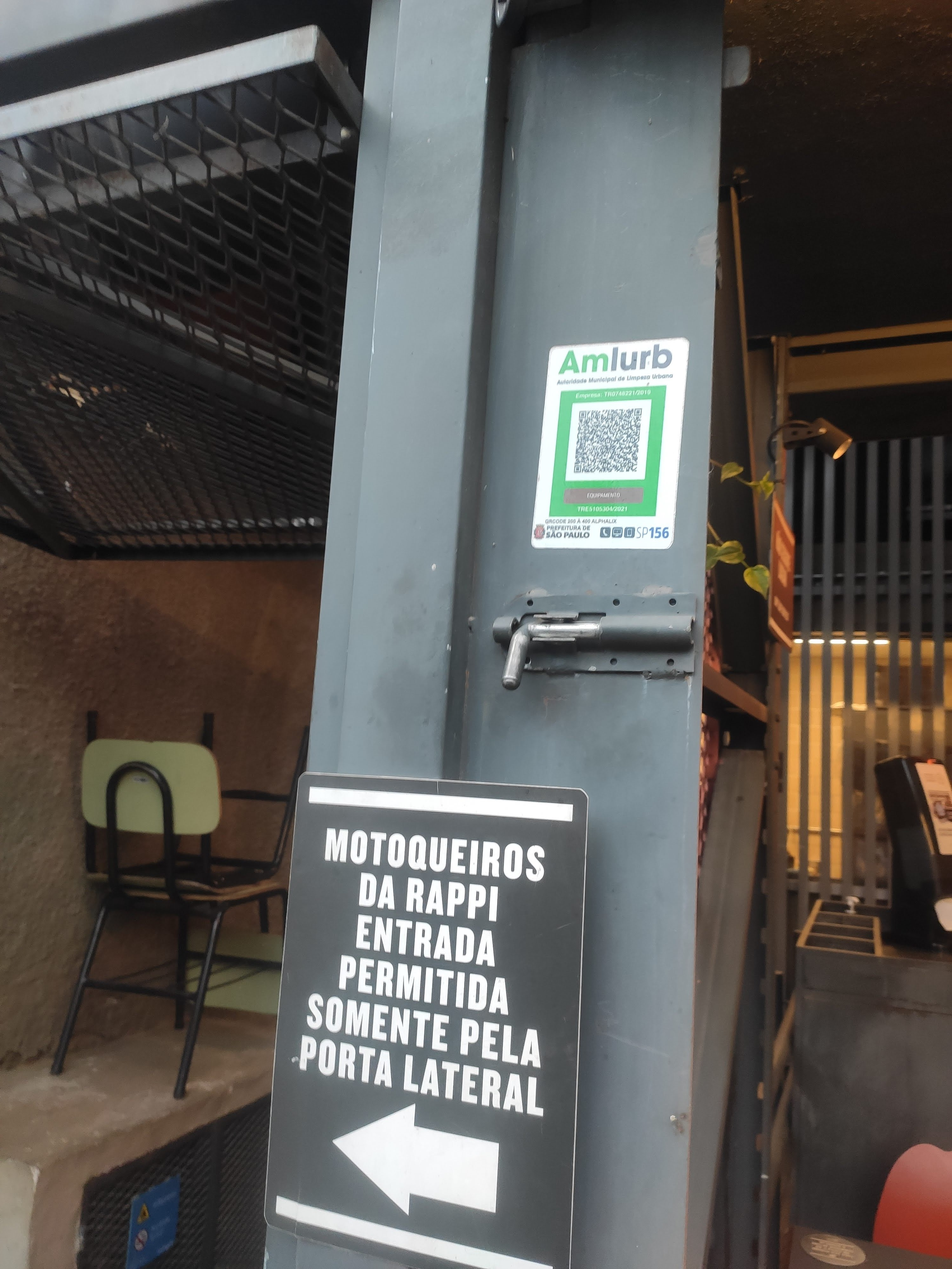QR-CODE: (574, 408, 642, 472)
